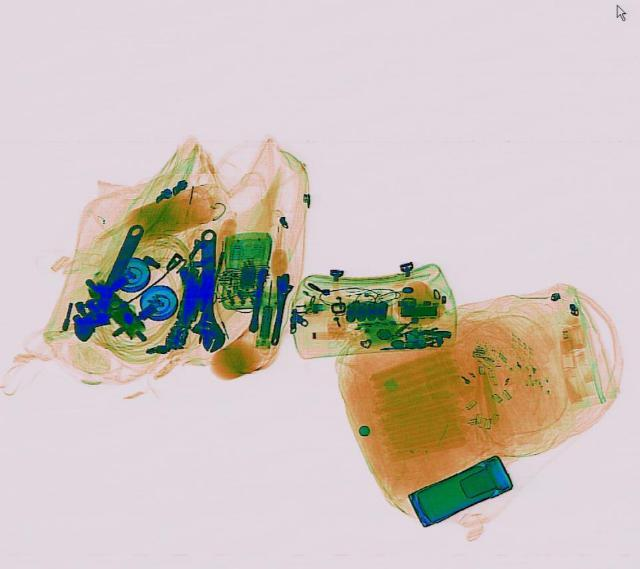Wrench: (64, 218, 154, 345), (191, 229, 223, 352), (264, 272, 294, 345)
